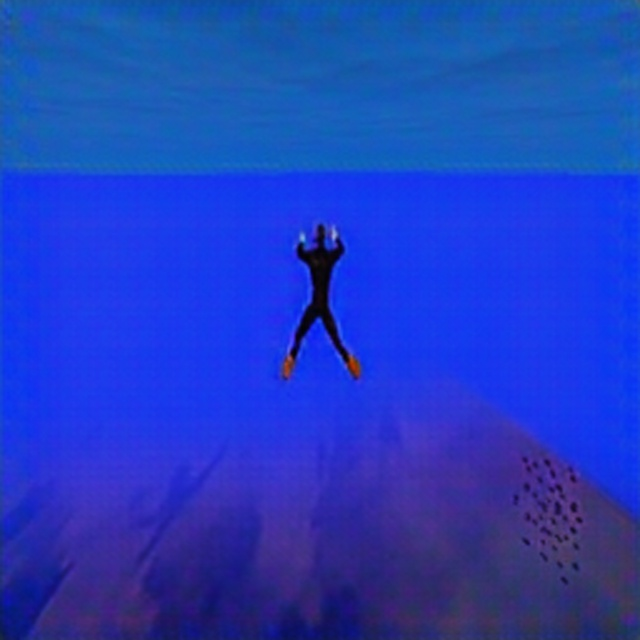diver: (279, 218, 362, 384)
